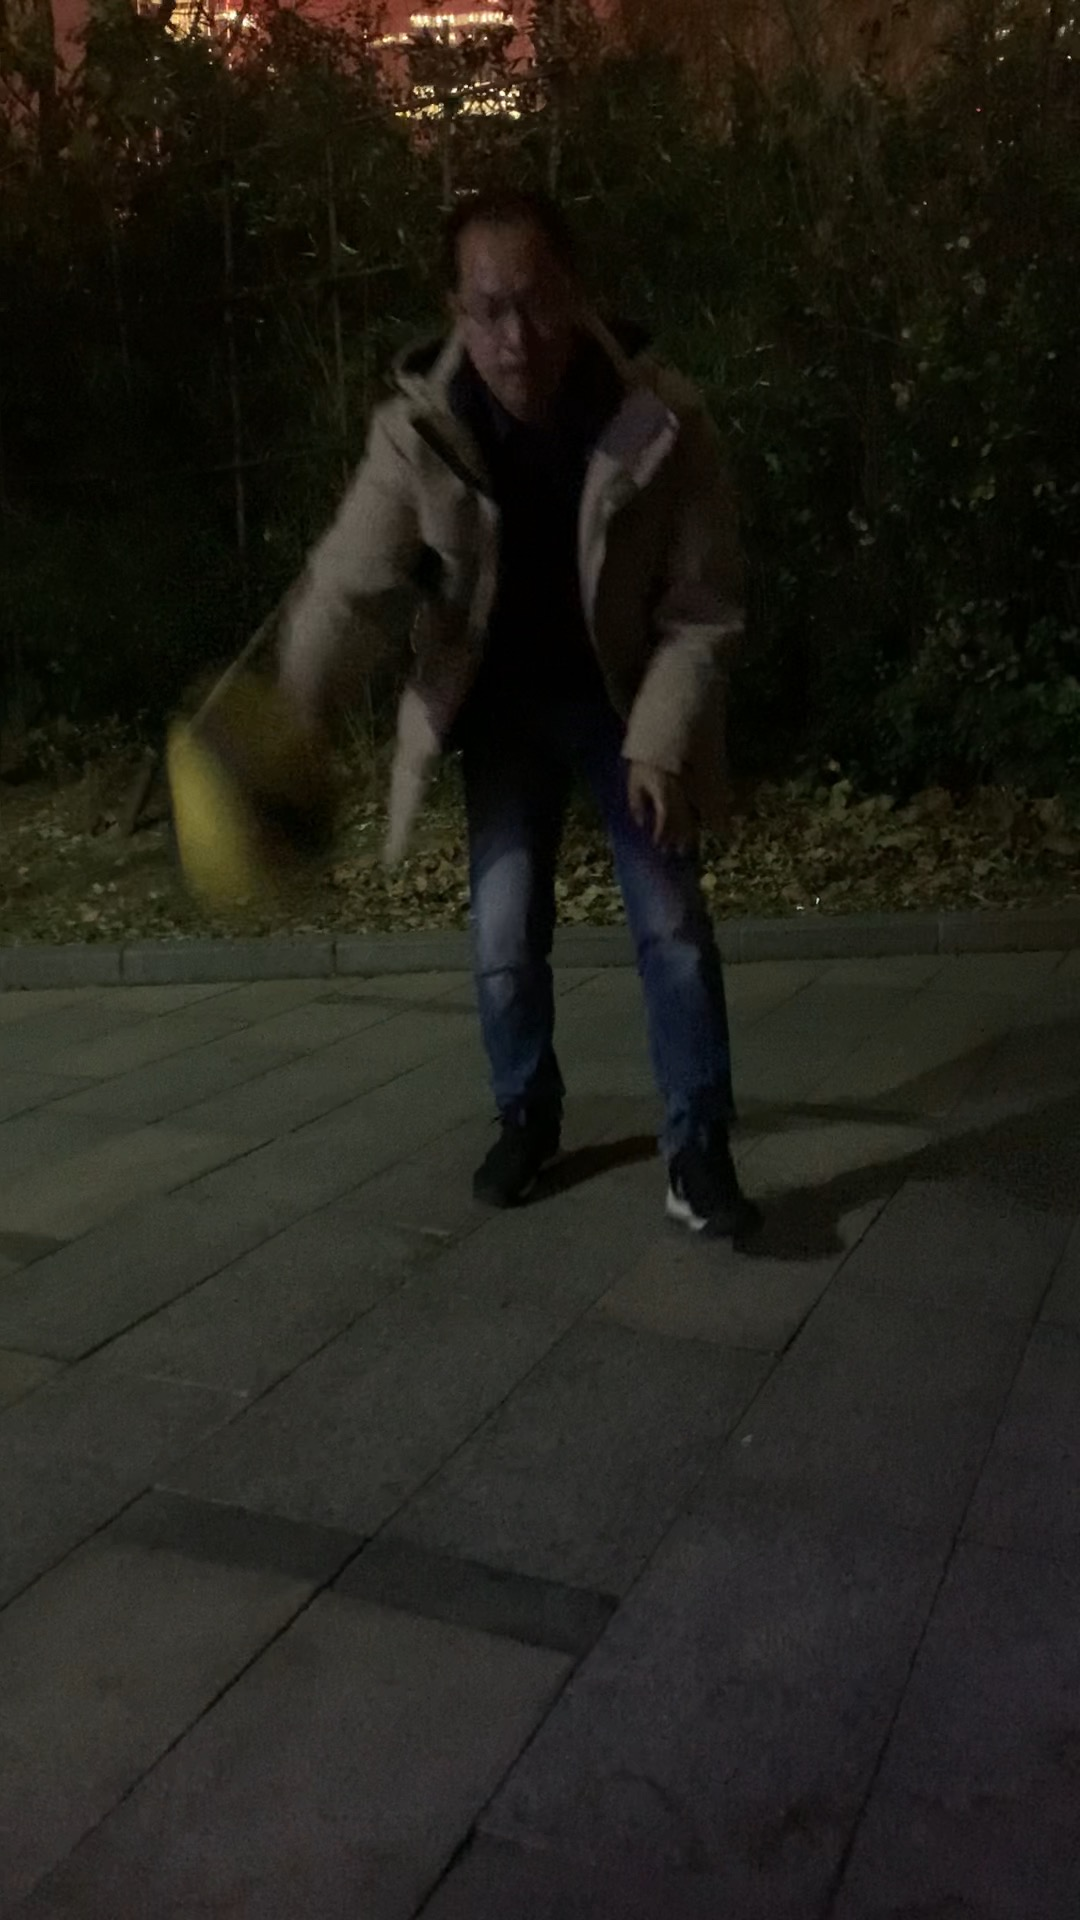ball: (142, 705, 363, 923)
